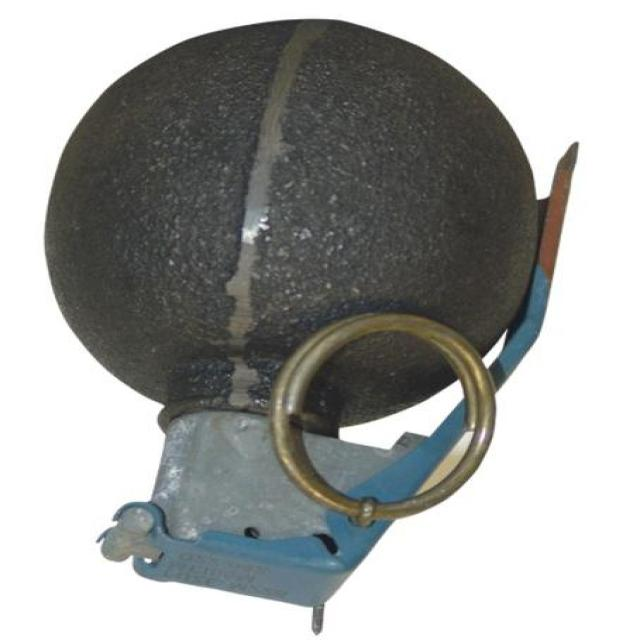grenade: (42, 19, 582, 634)
